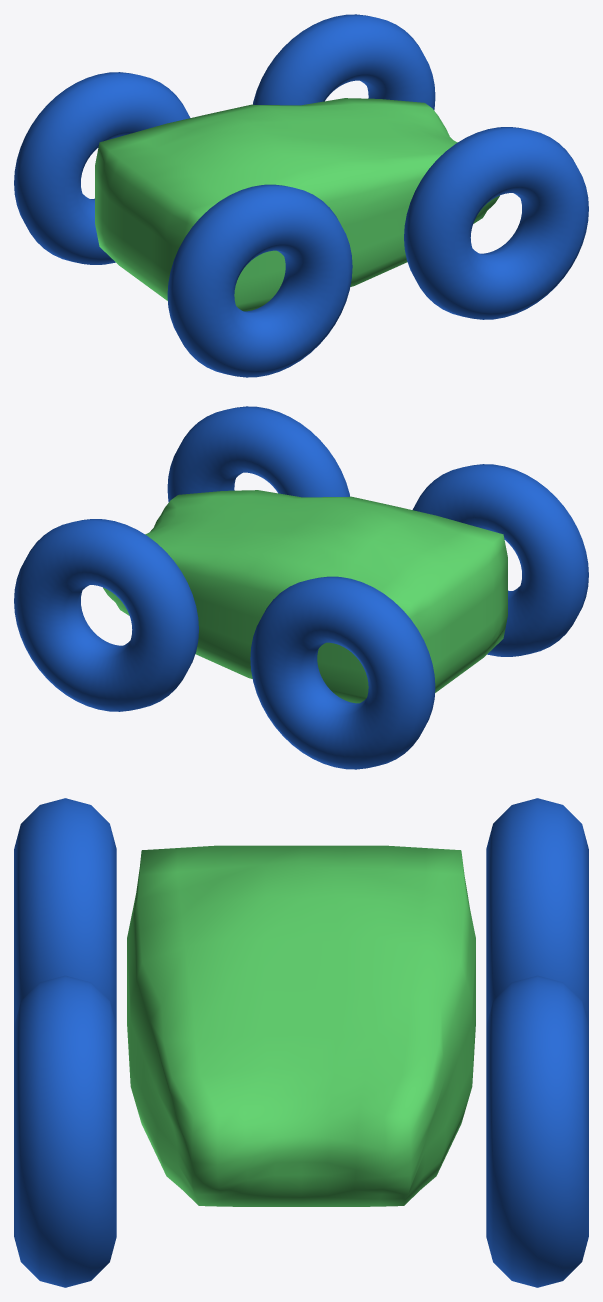
File: car.fbx
The picture shows the model from 3 angles, top to bottom: view 1: azimuth 30°, elevation 25°; view 2: azimuth 150°, elevation 25°; view 3: azimuth 270°, elevation 25°; orthographic projection. The views are drawn at different scales.
Visible parts, largest first — view 1: Cube, Torus.001, Torus, Torus.003, Torus.002; view 2: Cube, Torus.003, Torus.002, Torus.001, Torus; view 3: Cube, Torus.002, Torus, Torus.003, Torus.001.
Boxes of the visible parts, x1=… form: Cube: x1=95, y1=98, x2=499, y2=311; Torus.001: x1=167, y1=184, x2=352, y2=377; Torus: x1=404, y1=127, x2=588, y2=319; Torus.003: x1=14, y1=72, x2=190, y2=264; Torus.002: x1=253, y1=14, x2=435, y2=110; Cube: x1=103, y1=490, x2=507, y2=703; Torus.003: x1=250, y1=576, x2=435, y2=769; Torus.002: x1=14, y1=519, x2=198, y2=711; Torus.001: x1=412, y1=464, x2=588, y2=656; Torus: x1=167, y1=406, x2=349, y2=502; Cube: x1=127, y1=845, x2=475, y2=1206; Torus.002: x1=486, y1=975, x2=588, y2=1287; Torus: x1=14, y1=975, x2=116, y2=1287; Torus.003: x1=486, y1=798, x2=588, y2=1025; Torus.001: x1=14, y1=798, x2=116, y2=1025.
Size of the model in its own units: 698 by 298 by 548.
